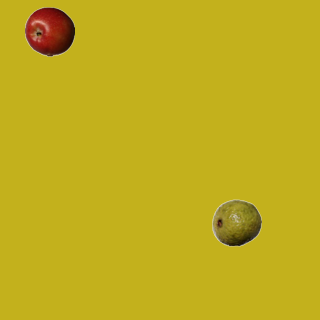Apple Braeburn: (24, 6, 74, 56)
Guava: (211, 197, 261, 247)
